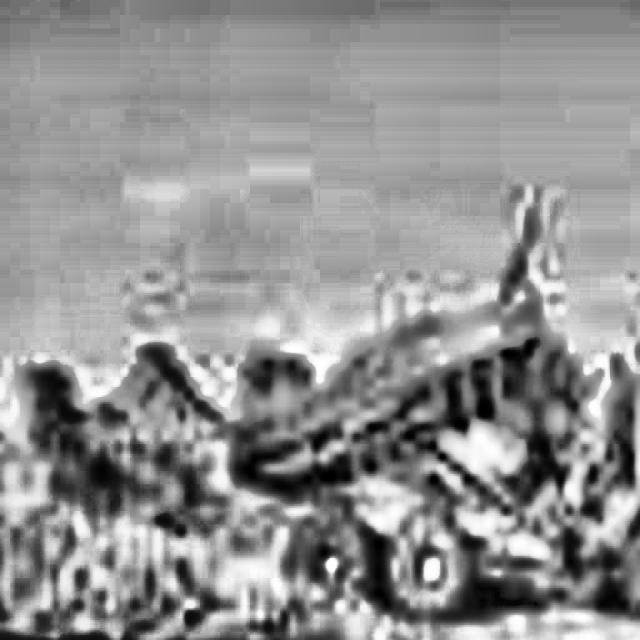dump_truck: (230, 167, 640, 640)
